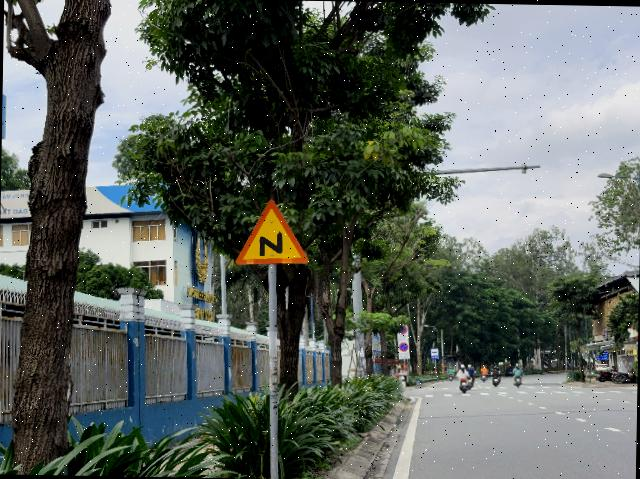nhieu-cho-ngoat-nguy-hiem-lien-tiep: (236, 198, 310, 266)
